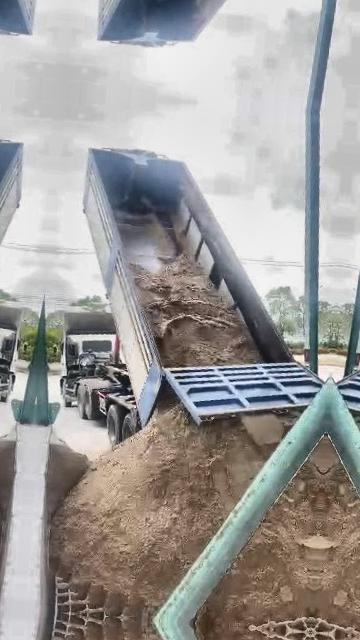sand: (53, 382, 270, 617), (198, 461, 323, 625), (131, 255, 261, 366), (46, 434, 87, 516), (241, 413, 297, 446), (313, 437, 325, 471)
